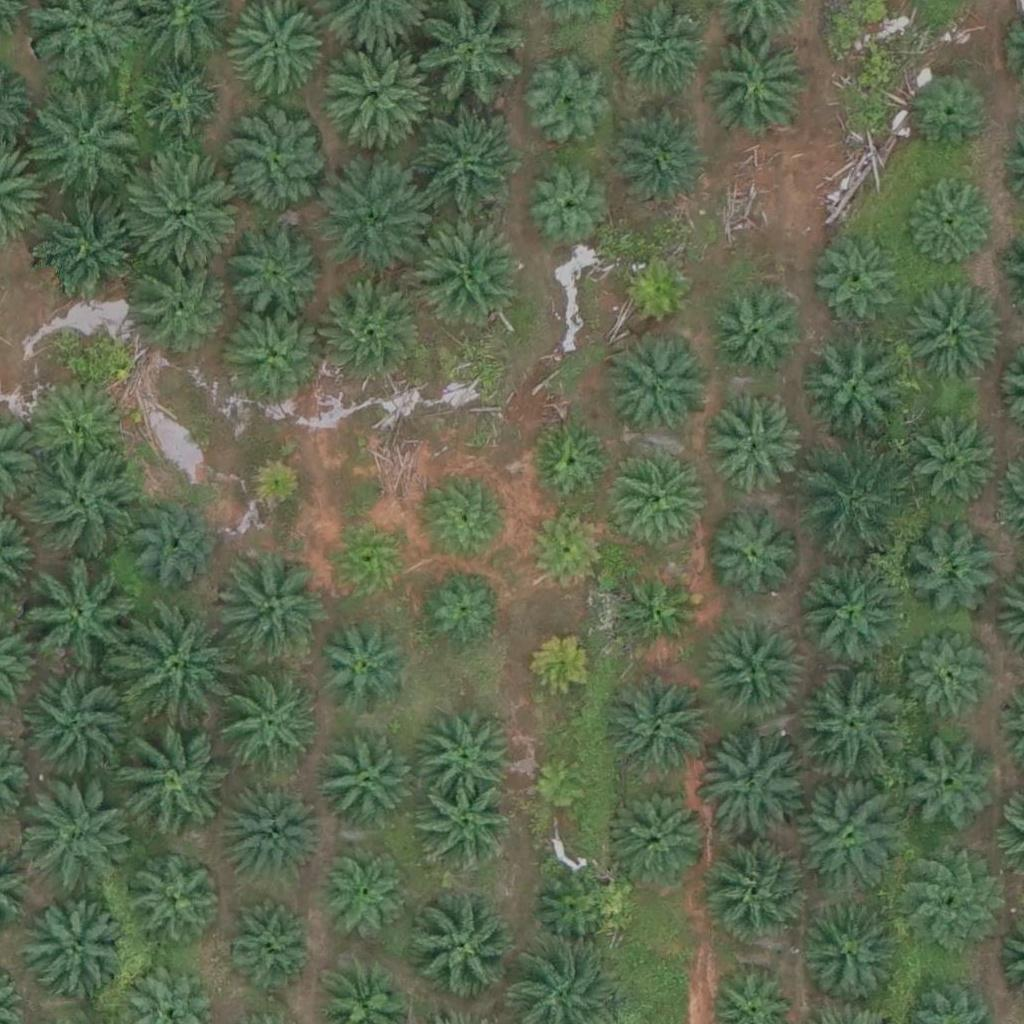Kelapa_Sawit: (795, 783, 908, 897), (602, 667, 715, 781), (406, 888, 519, 1002), (798, 665, 911, 778), (700, 733, 813, 846), (21, 668, 134, 781), (796, 329, 909, 442), (797, 452, 910, 565), (22, 74, 135, 187), (35, 191, 148, 304), (118, 615, 231, 728), (24, 564, 137, 677), (20, 785, 132, 899), (406, 115, 518, 229), (410, 219, 522, 333), (312, 276, 424, 390), (114, 724, 226, 837), (320, 165, 432, 278), (320, 38, 432, 151), (127, 150, 239, 263), (215, 551, 327, 664), (30, 447, 142, 560), (801, 903, 901, 1004), (701, 620, 801, 721), (714, 843, 814, 944), (615, 784, 715, 885), (415, 704, 515, 805), (309, 617, 409, 718), (316, 733, 416, 834), (222, 673, 322, 774), (127, 846, 227, 947), (27, 901, 127, 1002), (903, 519, 1003, 620), (706, 38, 806, 139), (707, 278, 807, 379), (707, 388, 807, 489), (700, 511, 800, 612), (612, 103, 712, 204), (605, 340, 705, 441), (604, 448, 704, 549), (226, 112, 326, 213), (228, 221, 328, 322), (123, 260, 223, 361), (29, 377, 129, 478), (897, 625, 997, 725), (218, 788, 318, 888), (805, 562, 905, 662), (907, 405, 1007, 505), (906, 281, 1006, 381), (228, 307, 328, 407), (319, 855, 407, 944), (905, 172, 993, 261), (904, 868, 992, 956), (903, 738, 991, 826), (532, 869, 620, 957), (424, 784, 512, 872), (224, 899, 312, 987), (615, 244, 703, 332), (423, 472, 511, 560), (423, 564, 511, 652), (521, 504, 609, 592), (529, 415, 617, 503), (811, 235, 899, 323), (524, 160, 612, 248), (528, 52, 616, 140), (131, 58, 219, 146), (136, 497, 224, 585), (324, 514, 411, 602), (907, 70, 994, 158), (614, 564, 701, 652), (526, 626, 601, 702), (241, 455, 304, 518), (531, 755, 593, 818)
